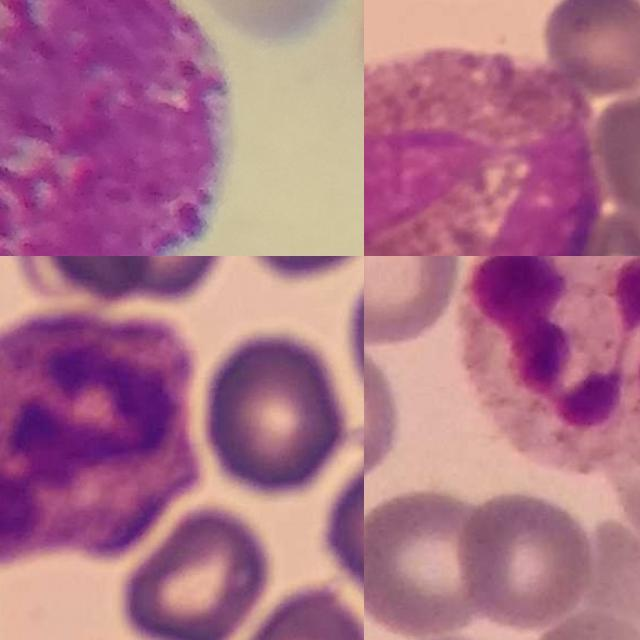Basophil: (0, 0, 237, 256)
Eosinophil: (364, 42, 605, 256)
Neutrophil: (0, 314, 200, 569), (464, 256, 640, 478)
